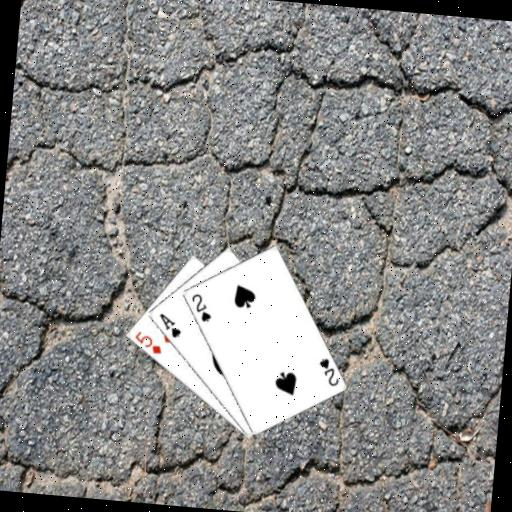2S: (187, 290, 215, 324), (314, 354, 342, 388)
5D: (131, 328, 165, 356)
AS: (154, 310, 184, 340)
